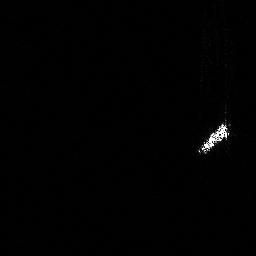ship: (194, 119, 232, 156)
